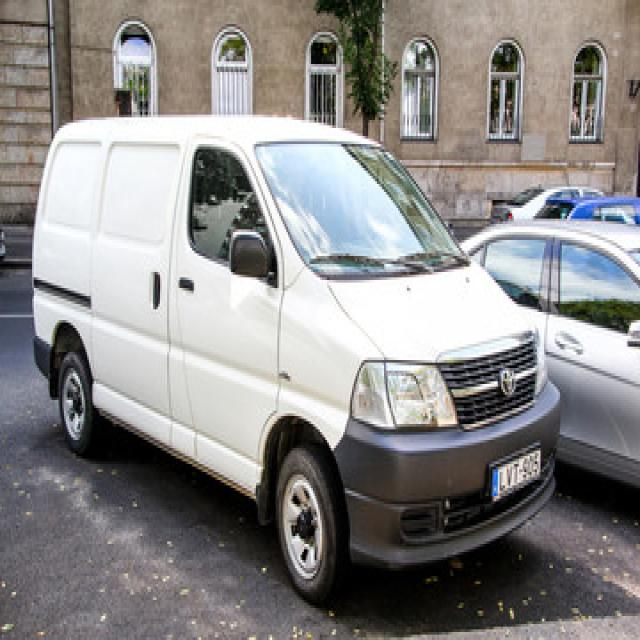car: (462, 221, 638, 485), (492, 187, 601, 221), (535, 197, 638, 224)
van: (34, 115, 558, 603)
